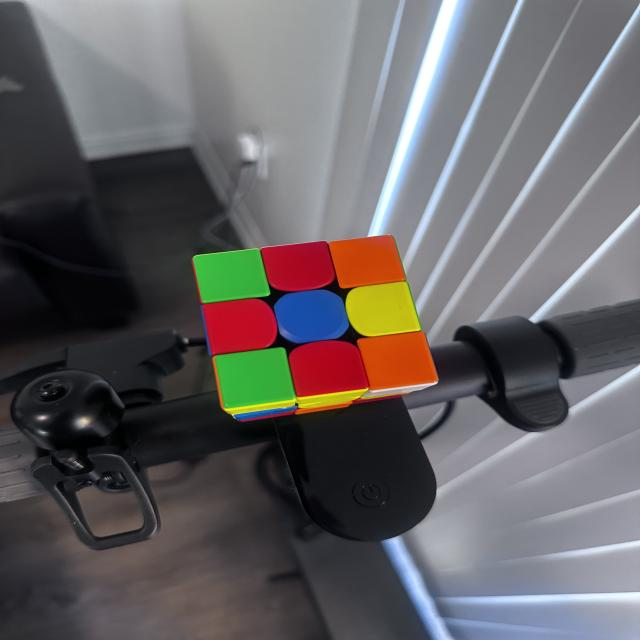sticker: (214, 348, 296, 420), (287, 340, 370, 411), (355, 332, 439, 399), (199, 298, 279, 358), (328, 234, 408, 291), (190, 248, 270, 305), (344, 282, 421, 339), (260, 240, 337, 295), (273, 290, 350, 345)
